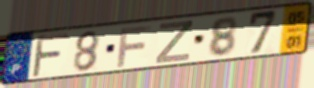7: (247, 9, 280, 57)
8: (207, 15, 240, 59), (72, 29, 103, 73)
F: (30, 31, 71, 79), (115, 23, 154, 68)
Z: (153, 19, 194, 65)
